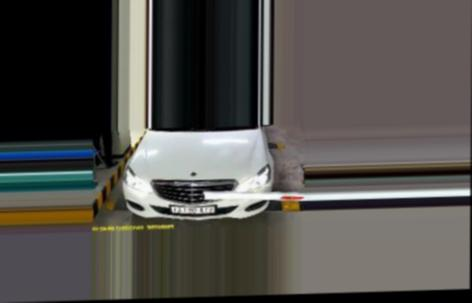License_Plate: (168, 202, 219, 219)
